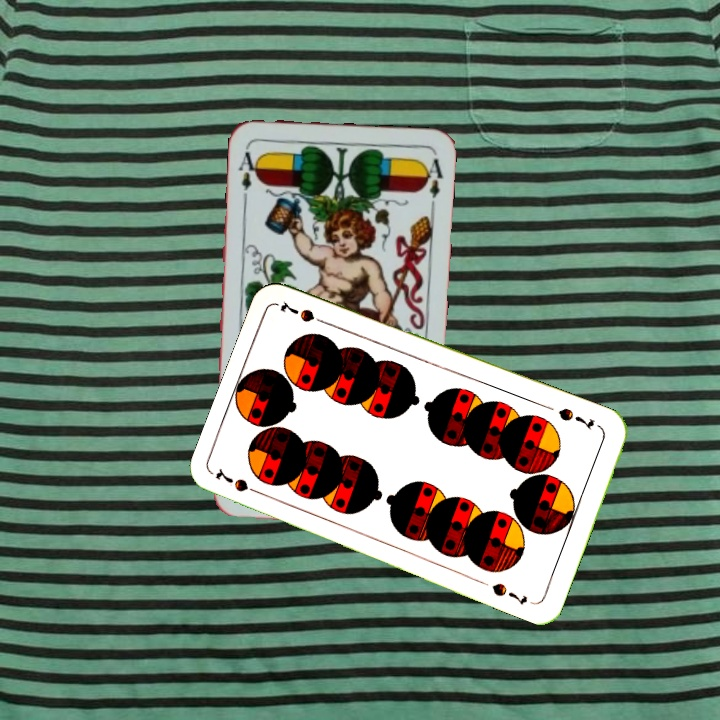EA: (234, 142, 262, 202)
S7: (211, 465, 268, 499), (554, 404, 597, 432)
